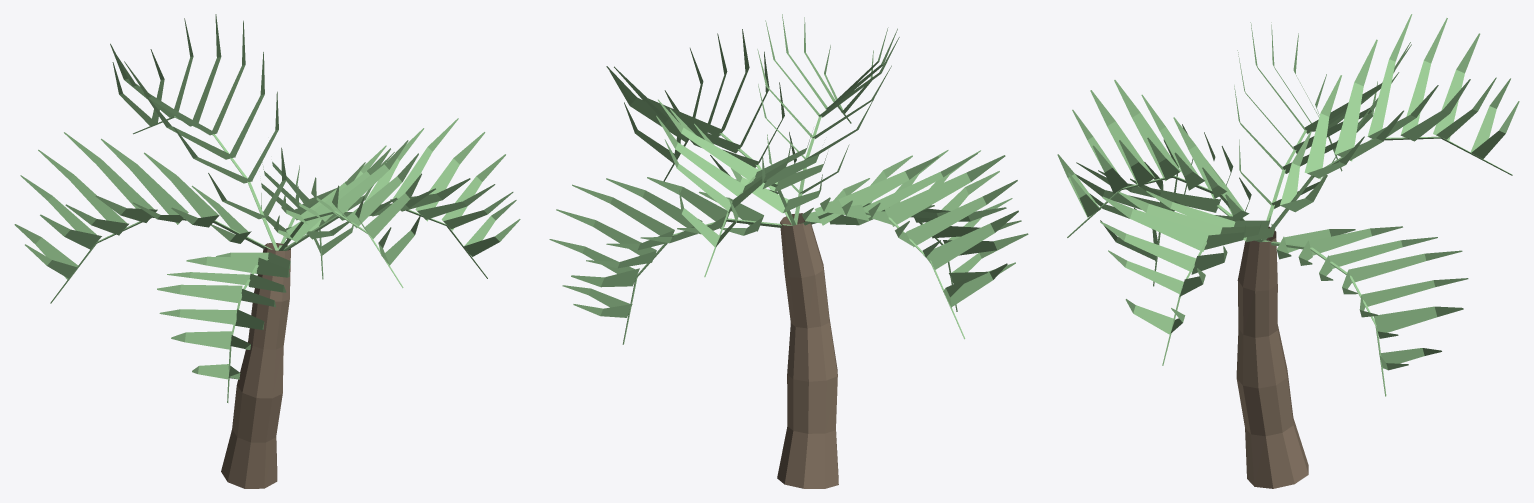
Rendered from coqueiro.fbx.
The picture shows the model from 3 angles, left to right: view 1: azimuth 30°, elevation 25°; view 2: azimuth 150°, elevation 25°; view 3: azimuth 270°, elevation 25°; orthographic projection. The views are drawn at different scales.
Visible parts, largest first — view 1: palm-young_0; view 2: palm-young_0; view 3: palm-young_0.
Part boxes in pixels (left/top/right/bottom): palm-young_0: left=14, top=14, right=520, bottom=488; palm-young_0: left=549, top=14, right=1028, bottom=488; palm-young_0: left=1057, top=14, right=1519, bottom=488.
Bounding box in the file's own units: 311 × 273 × 267.
